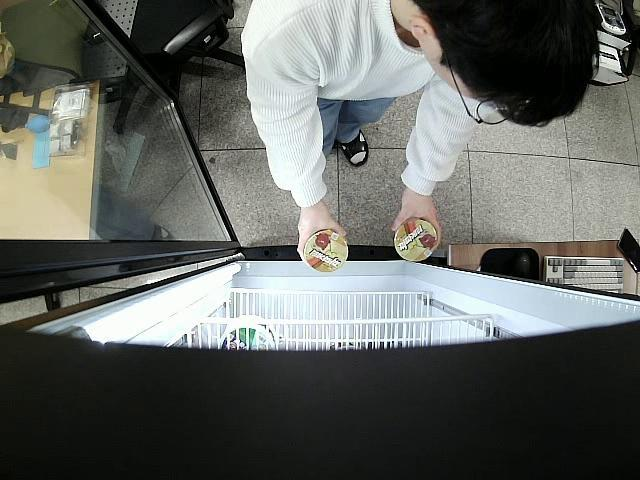04_chapagetti_S: (393, 216, 438, 262), (304, 228, 347, 272)
